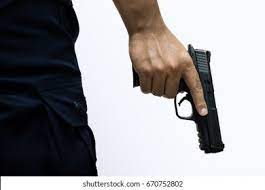gun: (130, 44, 226, 155)
